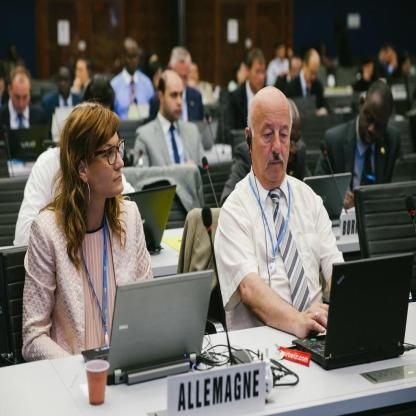board: (283, 240, 407, 387), (80, 270, 213, 384), (122, 184, 178, 253), (302, 172, 352, 226), (8, 125, 46, 162), (188, 118, 218, 151)
